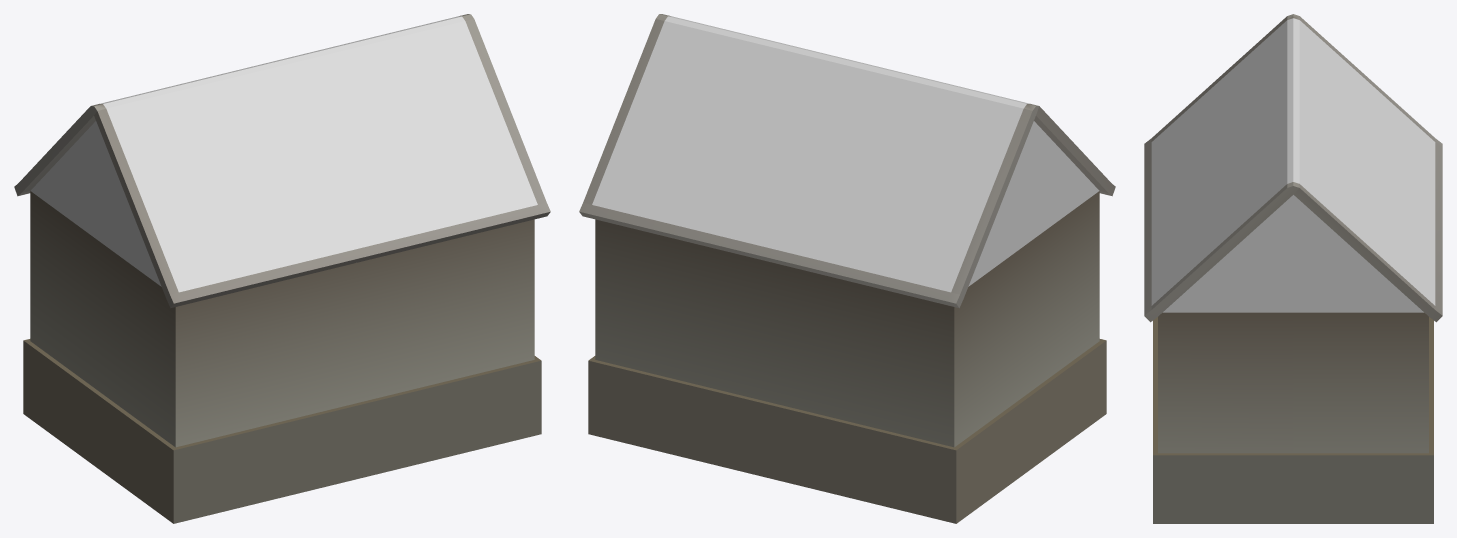
The model's file is Small_house1Redone.fbx.
3 views of the same model, side by side, from view 1: azimuth 30°, elevation 25°; view 2: azimuth 150°, elevation 25°; view 3: azimuth 270°, elevation 25° (orthographic). The views are drawn at different scales.
Visible parts, largest first — view 1: Base-1Floor_A.003, Base-1Floor_A.008, Base-1Floor_A.001, Base-1Floor_A.002, Base-1Floor_A.007, Base-1Floor_A.005, Base-1Floor_A.004, Base-1Floor_A; view 2: Base-1Floor_A.003, Base-1Floor_A.008, Base-1Floor_A.001, Base-1Floor_A.002, Base-1Floor_A.007, Base-1Floor_A.005, Base-1Floor_A.004, Base-1Floor_A; view 3: Base-1Floor_A.003, Base-1Floor_A.008, Base-1Floor_A.001, Base-1Floor_A.007, Base-1Floor_A.002, Base-1Floor_A.005, Base-1Floor_A, Base-1Floor_A.004.
Boxes of the visible parts, x1,y1,x2,y2 form: Base-1Floor_A.003: (106, 21, 537, 292); Base-1Floor_A.008: (30, 191, 534, 447); Base-1Floor_A.001: (23, 340, 541, 523); Base-1Floor_A.002: (91, 14, 550, 303); Base-1Floor_A.007: (31, 121, 161, 286); Base-1Floor_A.005: (14, 106, 550, 308); Base-1Floor_A.004: (100, 16, 464, 108); Base-1Floor_A: (23, 339, 540, 450); Base-1Floor_A.003: (592, 21, 1023, 292); Base-1Floor_A.008: (595, 191, 1099, 447); Base-1Floor_A.001: (588, 340, 1106, 523); Base-1Floor_A.002: (579, 14, 1038, 303); Base-1Floor_A.007: (968, 121, 1099, 286); Base-1Floor_A.005: (579, 106, 1115, 308); Base-1Floor_A.004: (665, 16, 1029, 108); Base-1Floor_A: (589, 339, 1106, 450); Base-1Floor_A.003: (1151, 20, 1435, 305); Base-1Floor_A.008: (1158, 312, 1428, 453); Base-1Floor_A.001: (1153, 455, 1433, 523); Base-1Floor_A.007: (1163, 195, 1423, 312); Base-1Floor_A.002: (1144, 14, 1442, 315); Base-1Floor_A.005: (1144, 188, 1442, 322); Base-1Floor_A: (1153, 317, 1433, 455); Base-1Floor_A.004: (1287, 18, 1299, 183).
Bounding box in the file's own units: 1050 × 968 × 771.
